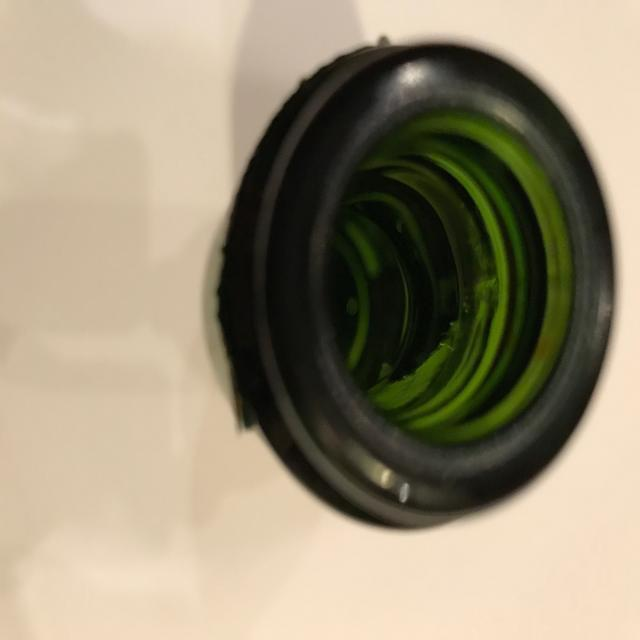glass: (200, 43, 616, 532)
